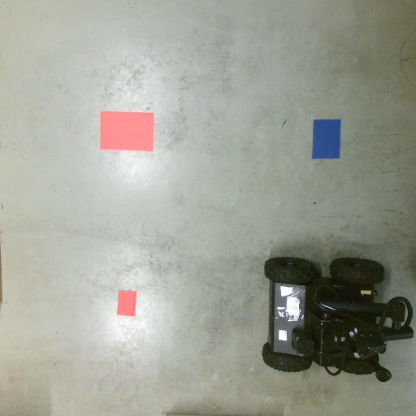Blue: (310, 118, 343, 162)
Jaguar: (259, 254, 416, 383)
Red: (97, 109, 156, 153), (113, 288, 139, 318)
